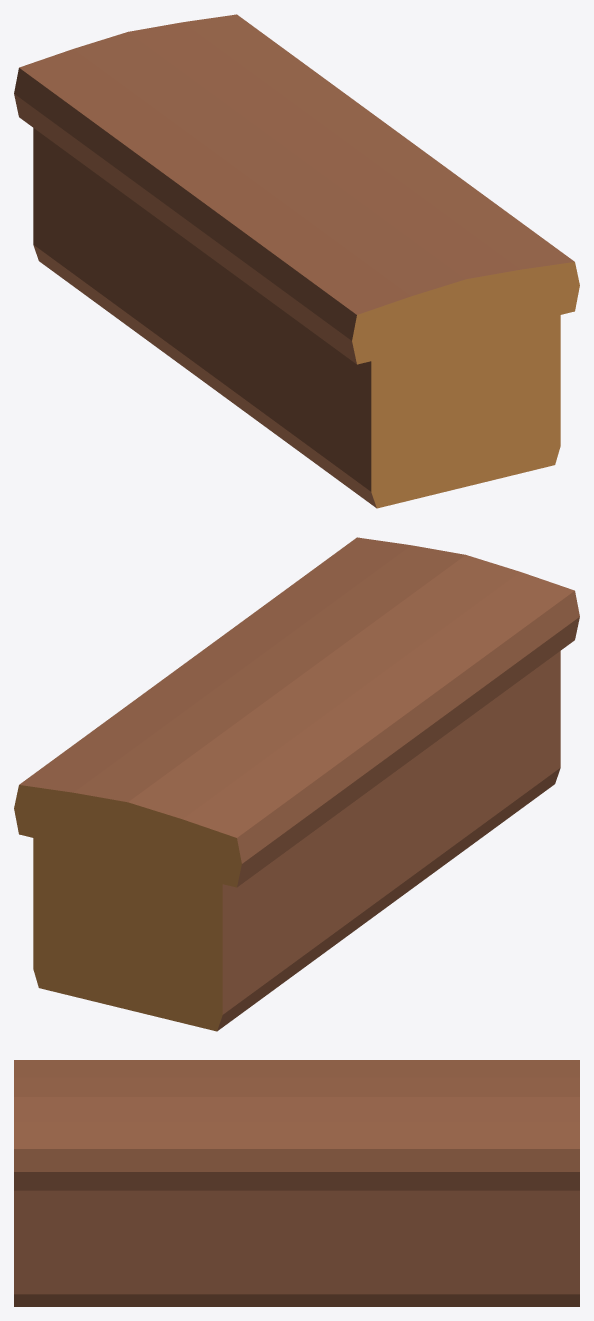
The model's file is Bread.fbx.
3 views of the same model, one above another, from view 1: azimuth 30°, elevation 25°; view 2: azimuth 150°, elevation 25°; view 3: azimuth 270°, elevation 25° (orthographic). The views are drawn at different scales.
Parts seen in each view (by area): view 1: Plane; view 2: Plane; view 3: Plane.
Part boxes in pixels (left/top/right/bottom): Plane: left=14, top=14, right=579, bottom=508; Plane: left=14, top=537, right=579, bottom=1031; Plane: left=14, top=1060, right=579, bottom=1306.
Bounding box in the file's own units: 2.41 × 2.09 × 6.18.
